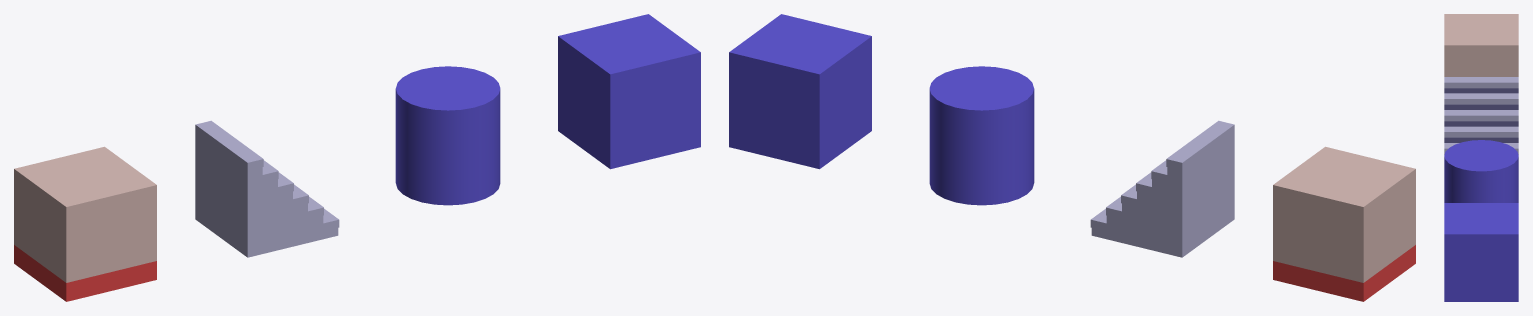
The model's file is TestMeshLib.glb.
3 renders of one model, left to right at view 1: azimuth 30°, elevation 25°; view 2: azimuth 150°, elevation 25°; view 3: azimuth 270°, elevation 25°, orthographic. The views are drawn at different scales.
Visible parts, largest first — view 1: block_wall, block_floor, pillar, stairs; view 2: block_wall, block_floor, pillar, stairs; view 3: block_wall, stairs, block_floor, pillar.
Part boxes in pixels (x1=…): block_wall: x1=558, y1=14, x2=700, y2=169; block_floor: x1=14, y1=146, x2=156, y2=301; pillar: x1=395, y1=66, x2=500, y2=205; stairs: x1=195, y1=120, x2=339, y2=257; block_wall: x1=729, y1=14, x2=871, y2=169; block_floor: x1=1273, y1=146, x2=1415, y2=301; pillar: x1=929, y1=66, x2=1034, y2=205; stairs: x1=1090, y1=120, x2=1234, y2=257; block_wall: x1=1444, y1=203, x2=1518, y2=301; stairs: x1=1444, y1=77, x2=1518, y2=154; block_floor: x1=1444, y1=14, x2=1518, y2=76; pillar: x1=1444, y1=140, x2=1518, y2=202.
Size of the model in its own units: 7 by 1 by 1.
